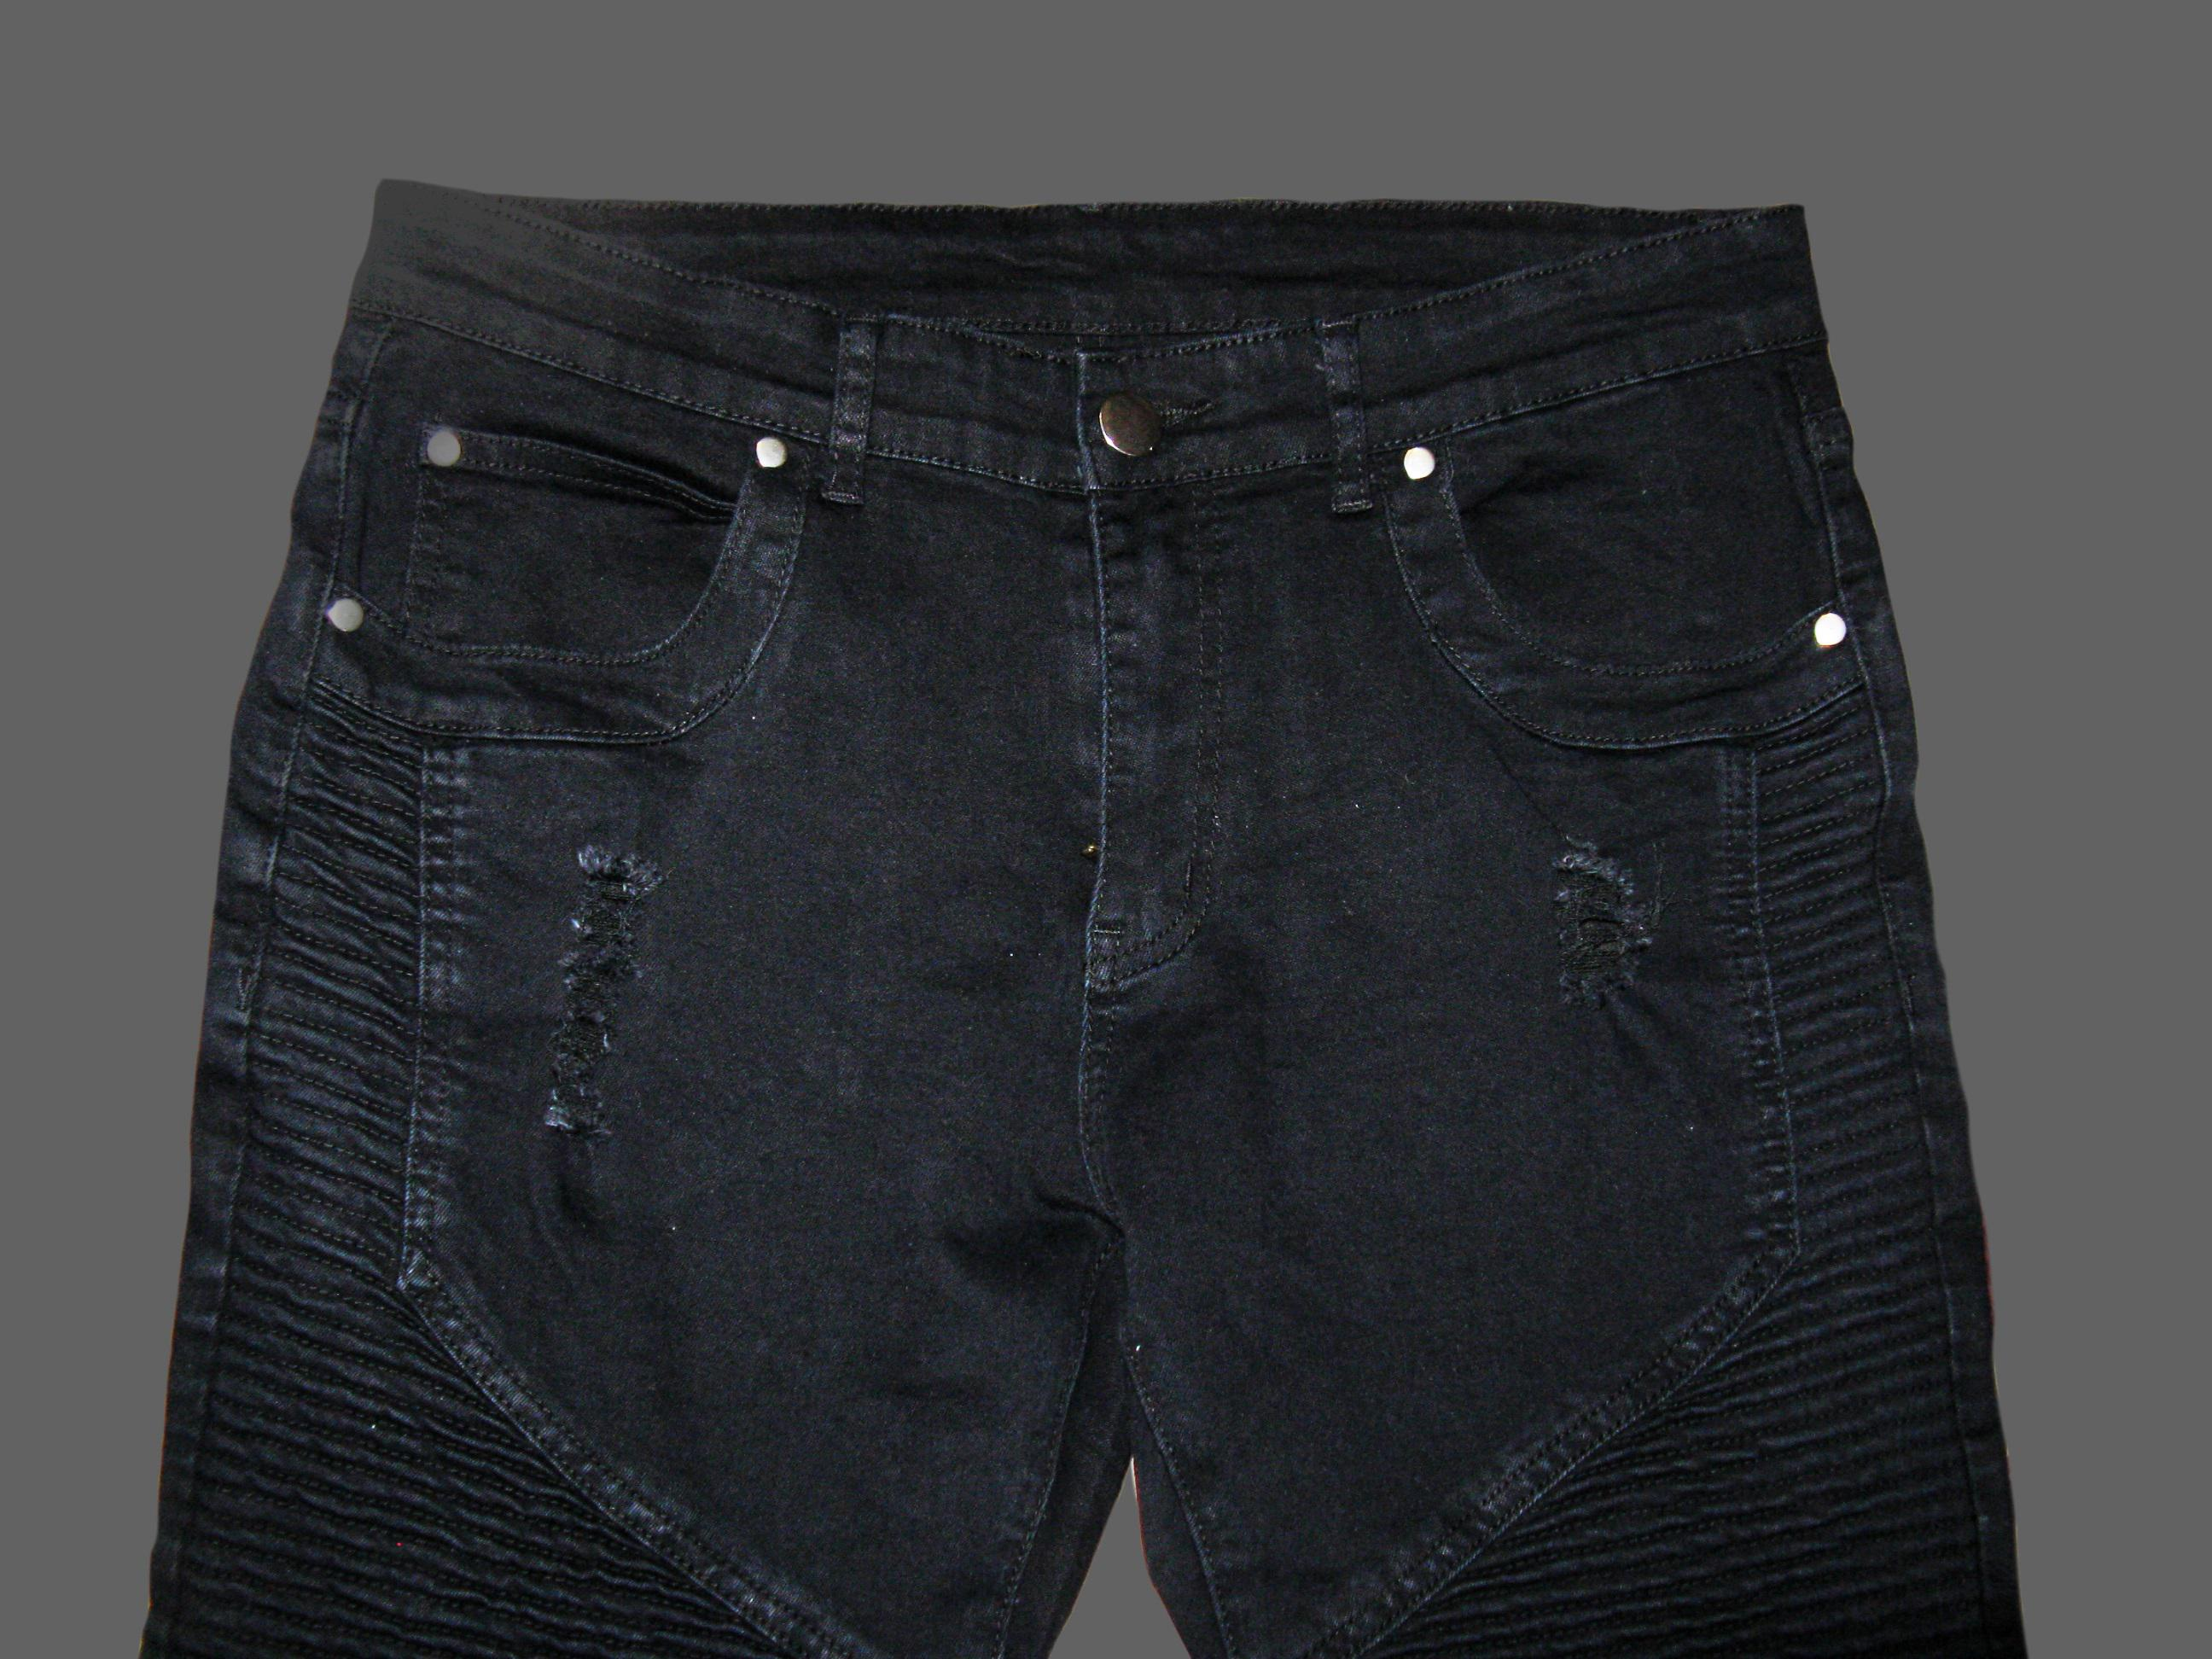jeans: (176, 211, 1838, 1659)
